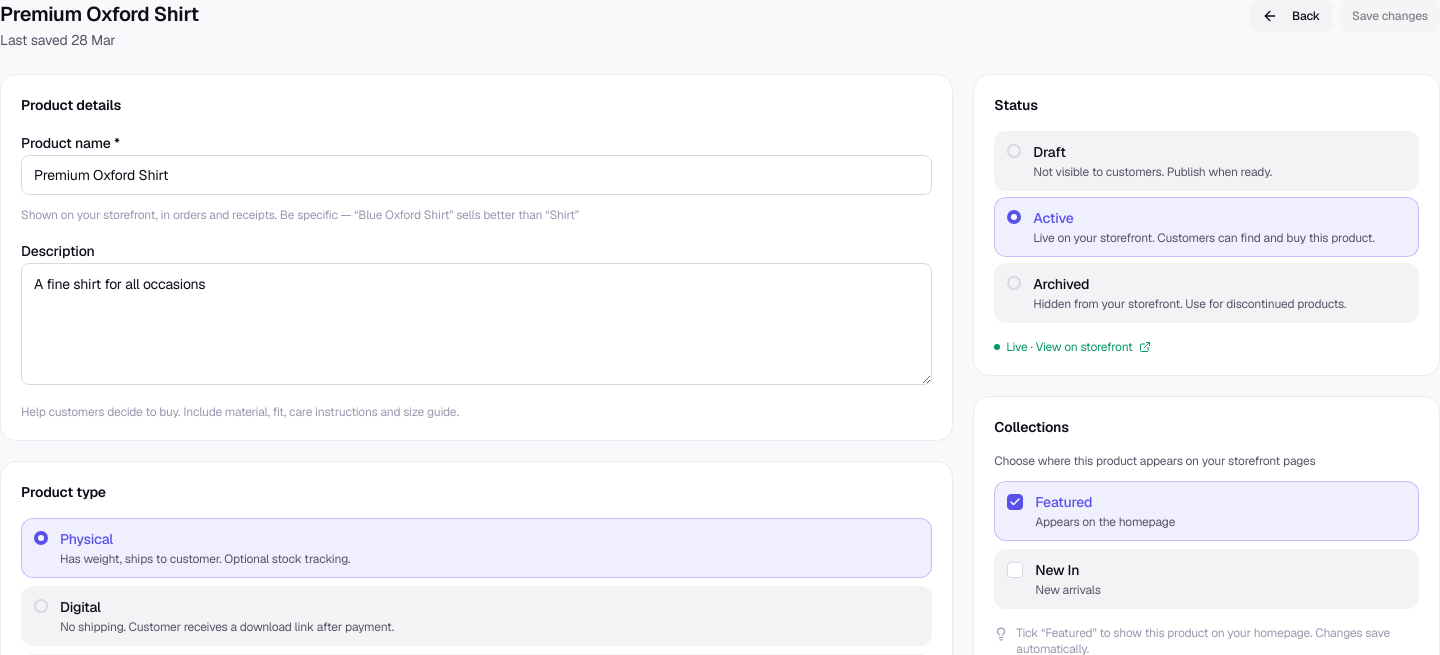
Test case: ProductForm — state sync after save › resets dirty state after successful save even if status changed
The image size is (1440, 655).
Expected: the heading "Premium Oxford Shirt" is shown, [0,0,199,28]
Click the button "Draft Not visible to customers. Publish when ready.".
click(1207, 161)  # box [994,131,1419,191]
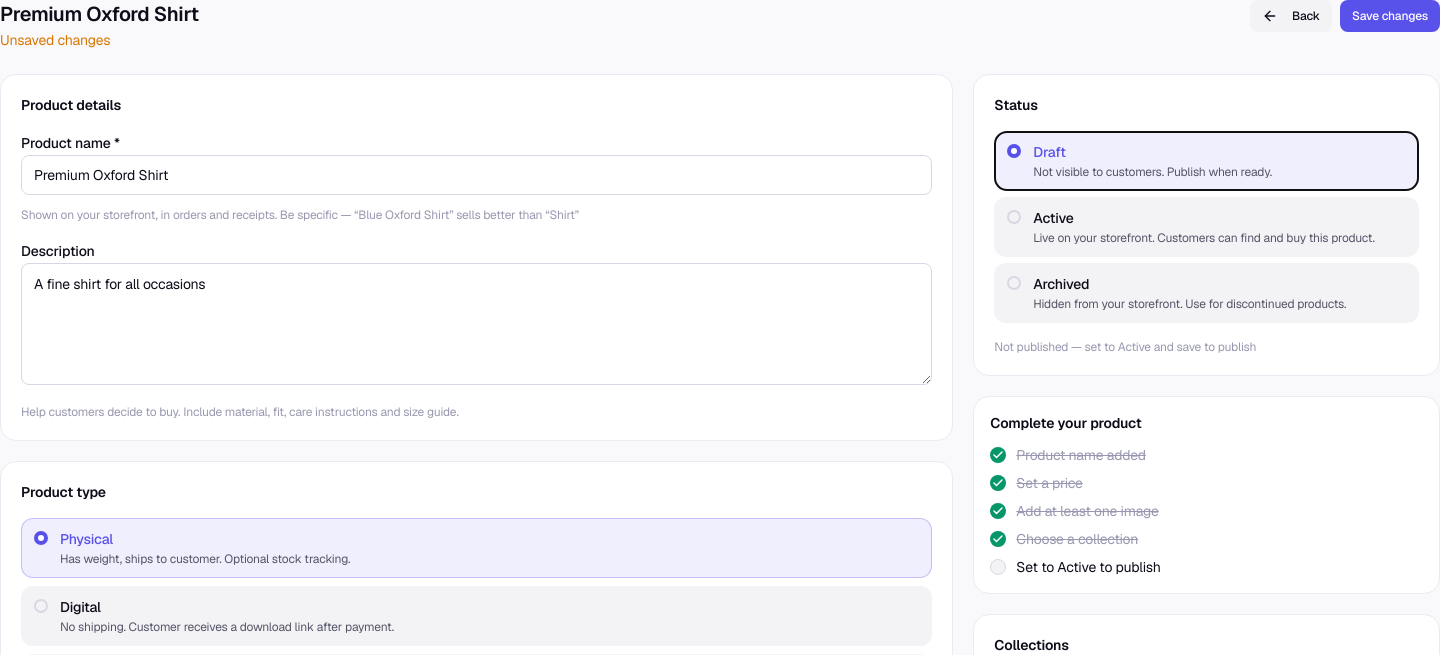
Click the button "Save changes".
click(1390, 16)  # box [1340,0,1439,32]
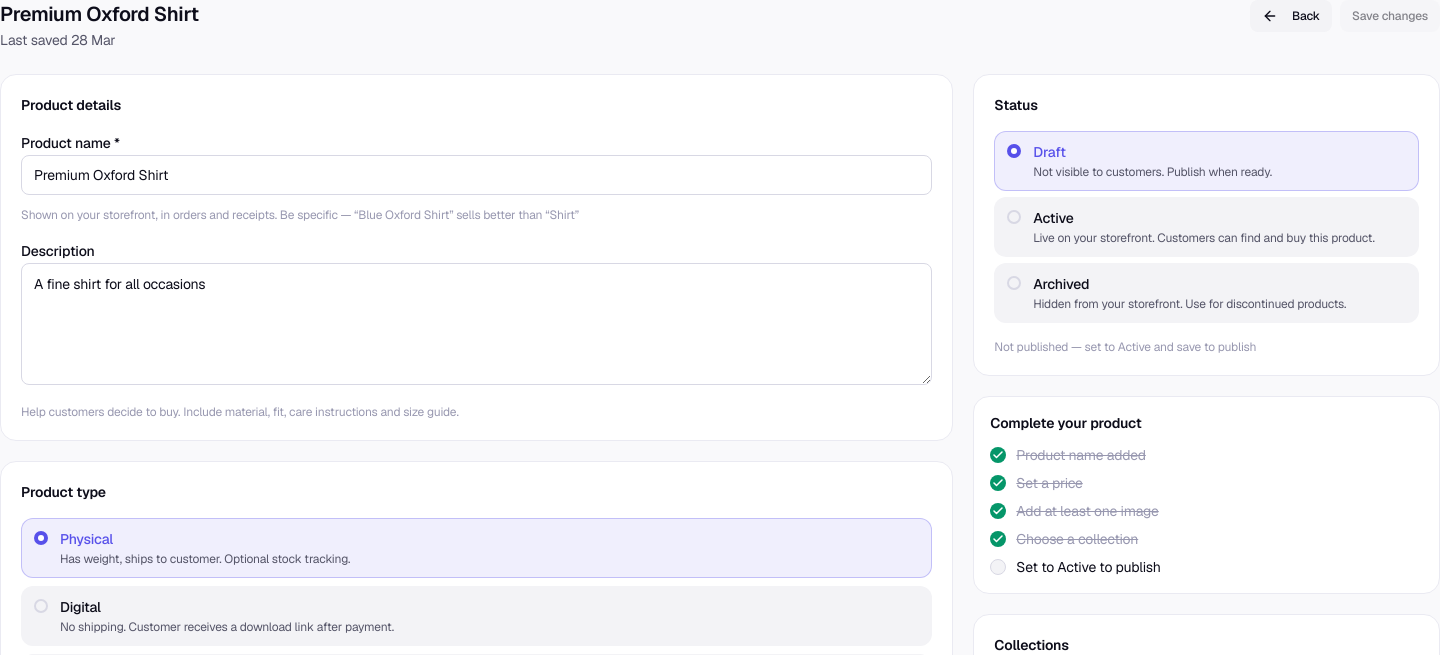
Expected: the text "Unsaved changes" is gone
